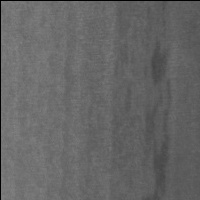inclusion: (142, 28, 179, 200)
